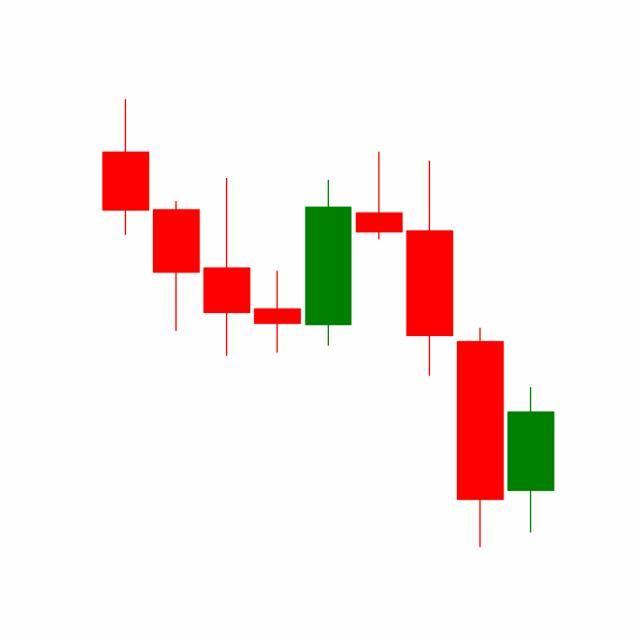Hikkake Pattern: (252, 147, 506, 548)
